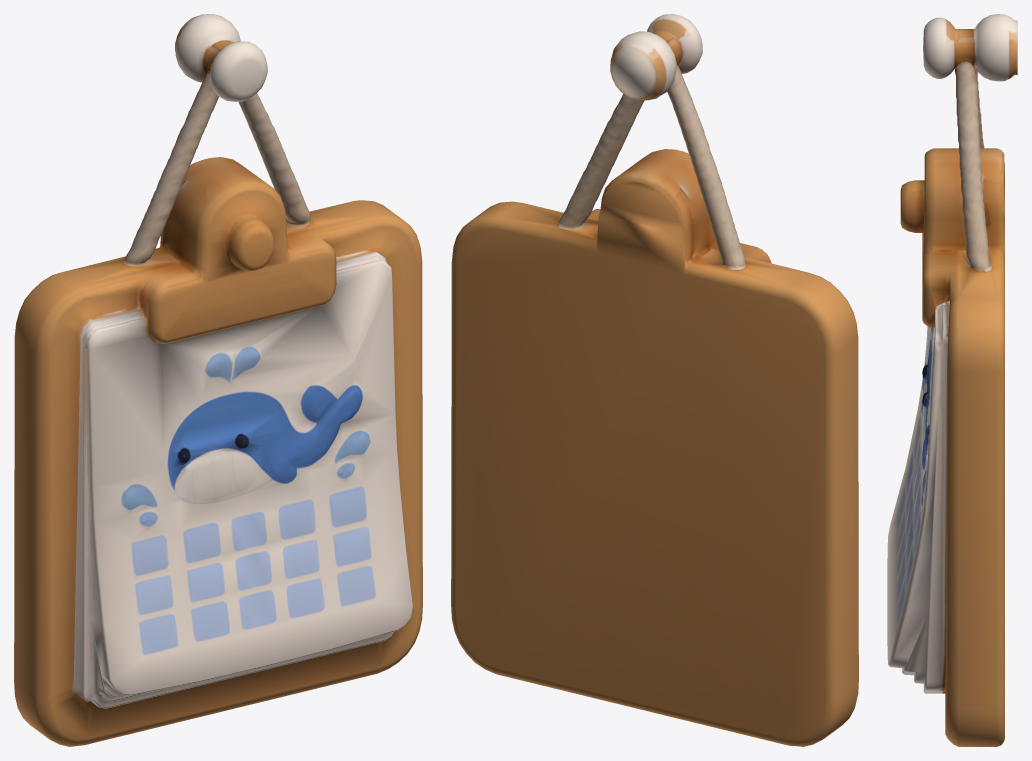
File: wall-calendar.glb
The picture shows the model from 3 angles, left to right: view 1: azimuth 30°, elevation 25°; view 2: azimuth 150°, elevation 25°; view 3: azimuth 270°, elevation 25°; orthographic projection. The views are drawn at different scales.
Visible parts, largest first — view 1: wall_calendar_mesh; view 2: wall_calendar_mesh; view 3: wall_calendar_mesh.
Boxes of the visible parts, bbox=[...] form: wall_calendar_mesh: bbox=[14, 14, 422, 746]; wall_calendar_mesh: bbox=[451, 14, 858, 746]; wall_calendar_mesh: bbox=[887, 14, 1017, 746].
Size of the model in its own units: 0.2877 by 0.48 by 0.0865.
Materials: 1 (1 with a texture image).
